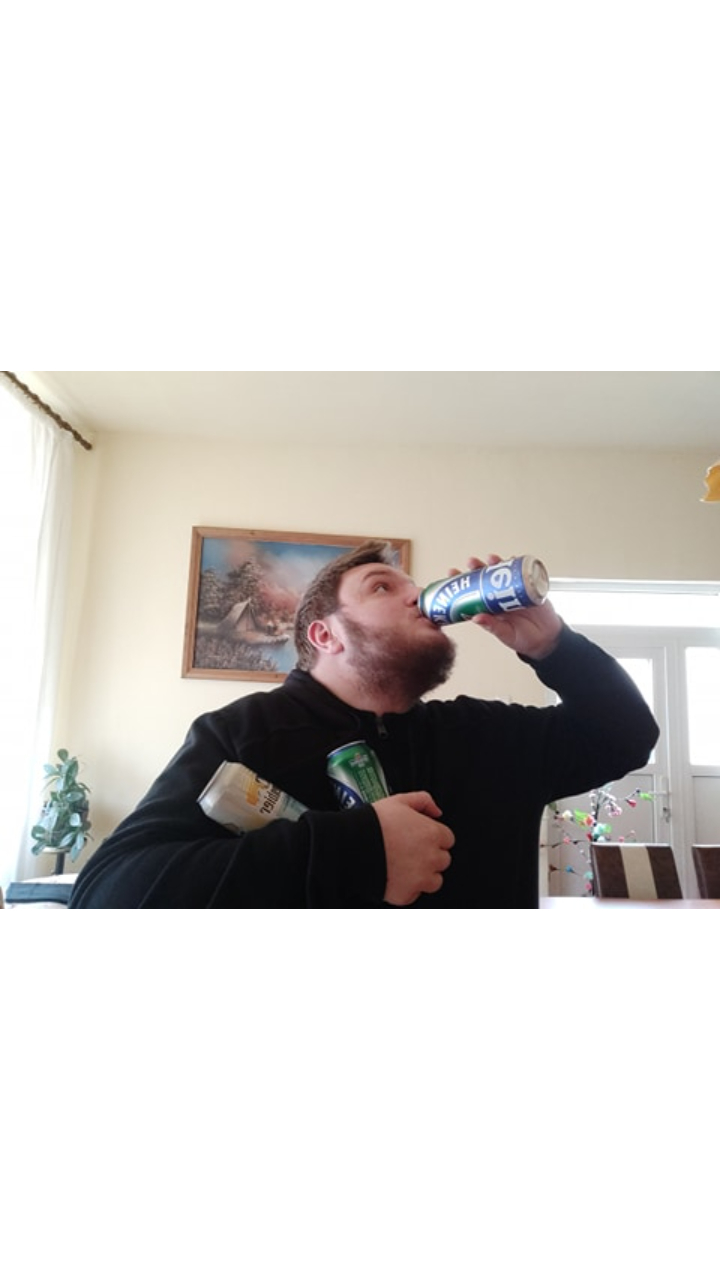Can: (417, 559, 549, 624), (196, 759, 309, 825), (324, 737, 395, 808)
